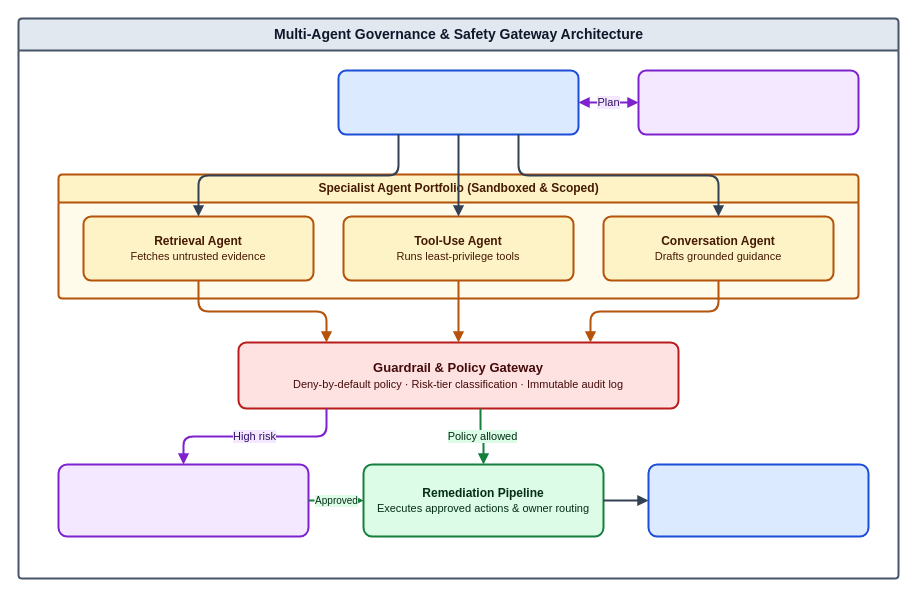
Some shapes in this 916 by 596 pixel diagram are drawn without their labels. The shapes that lost their labels are listed below. From the top down, each one's centre as x and y in pixels, then its label:
At point (458, 102): "Orchestrator Routes tasks, step budgets & state".
At point (748, 102): "Planner Agent Decomposes goals & stop criteria".
At point (183, 500): "Human Approval Queue (HITL) Reviews high-blast-radius or uncertain actions".
At point (758, 500): "Eval & Learning Service Updates regression benchmarks & drift alerts".
